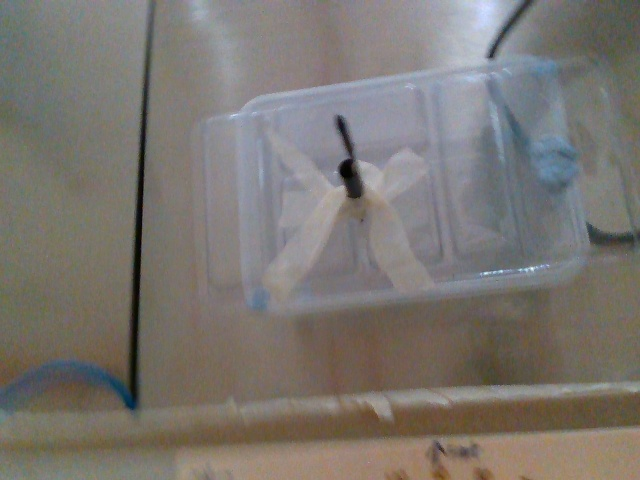test_strip: (331, 113, 356, 169)
